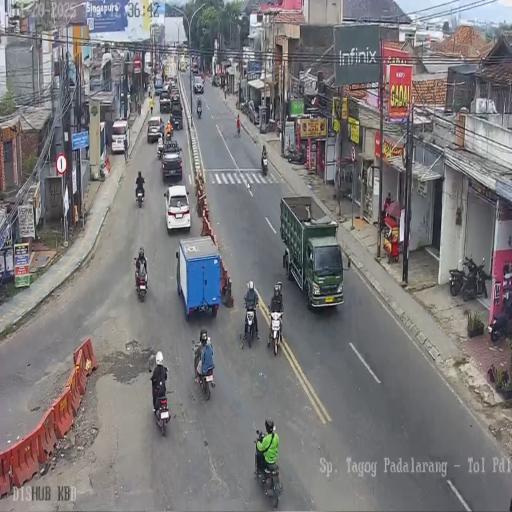3: (276, 201, 338, 318), (175, 238, 220, 319), (165, 56, 177, 80), (144, 52, 152, 73), (179, 59, 187, 71)
car: (164, 184, 191, 234), (161, 141, 183, 182), (112, 118, 130, 154), (147, 116, 164, 143), (170, 98, 183, 130), (159, 91, 171, 113), (120, 88, 131, 111), (193, 76, 204, 94), (154, 78, 164, 96), (166, 78, 176, 93), (192, 63, 198, 75), (186, 62, 189, 71)
truck: (449, 254, 489, 302), (149, 372, 171, 436), (192, 343, 214, 402), (490, 301, 512, 342), (242, 300, 260, 349), (268, 308, 284, 357), (285, 143, 306, 165), (135, 180, 145, 209), (240, 98, 250, 116), (261, 152, 268, 176), (156, 139, 164, 160), (165, 126, 173, 144), (276, 118, 282, 138), (196, 98, 202, 118), (148, 87, 151, 98)
